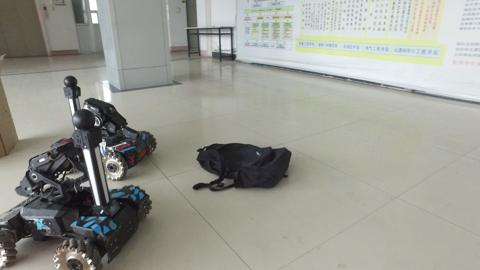bag: (192, 135, 291, 194)
chariot: (2, 110, 159, 268)
